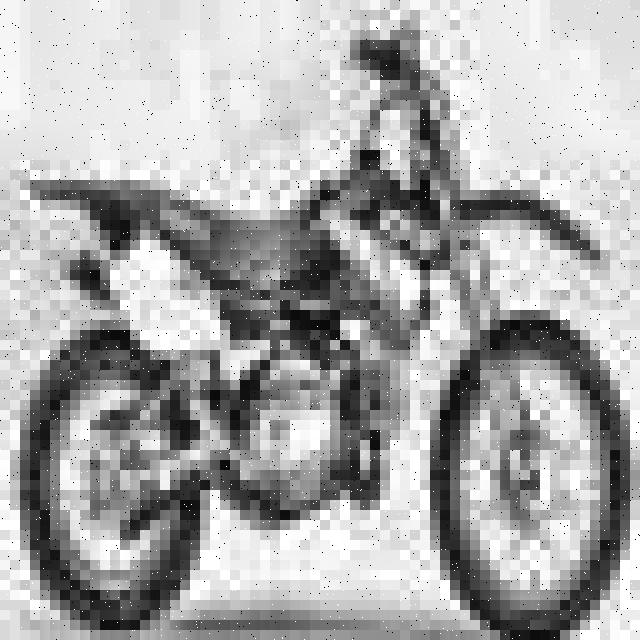mopeds: (15, 26, 639, 633)
